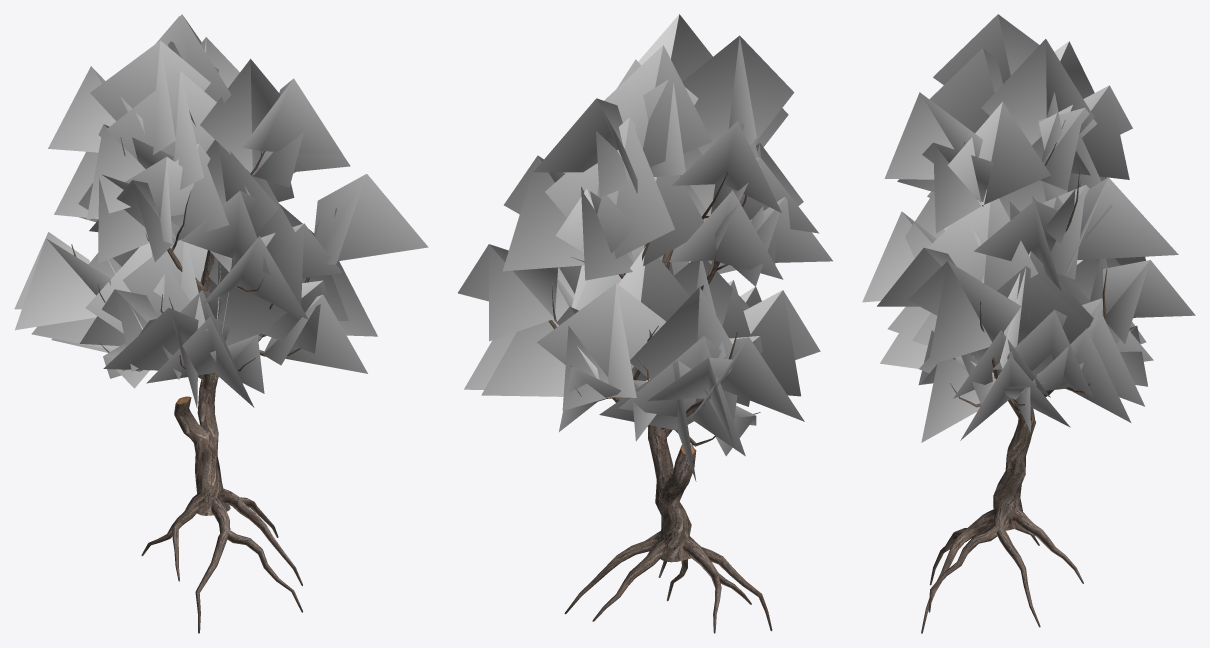
The model's file is Old 01.fbx.
3 renders of one model, left to right at view 1: azimuth 30°, elevation 25°; view 2: azimuth 150°, elevation 25°; view 3: azimuth 270°, elevation 25°, orthographic. The views are drawn at different scales.
Visible parts, largest first — view 1: old01; view 2: old01; view 3: old01.
Part boxes in pixels (x1,y1,x2,y2): old01: (14, 14, 428, 633); old01: (458, 14, 832, 633); old01: (862, 14, 1195, 633).
Bounding box in the file's own units: 1760 × 2853 × 1516.
